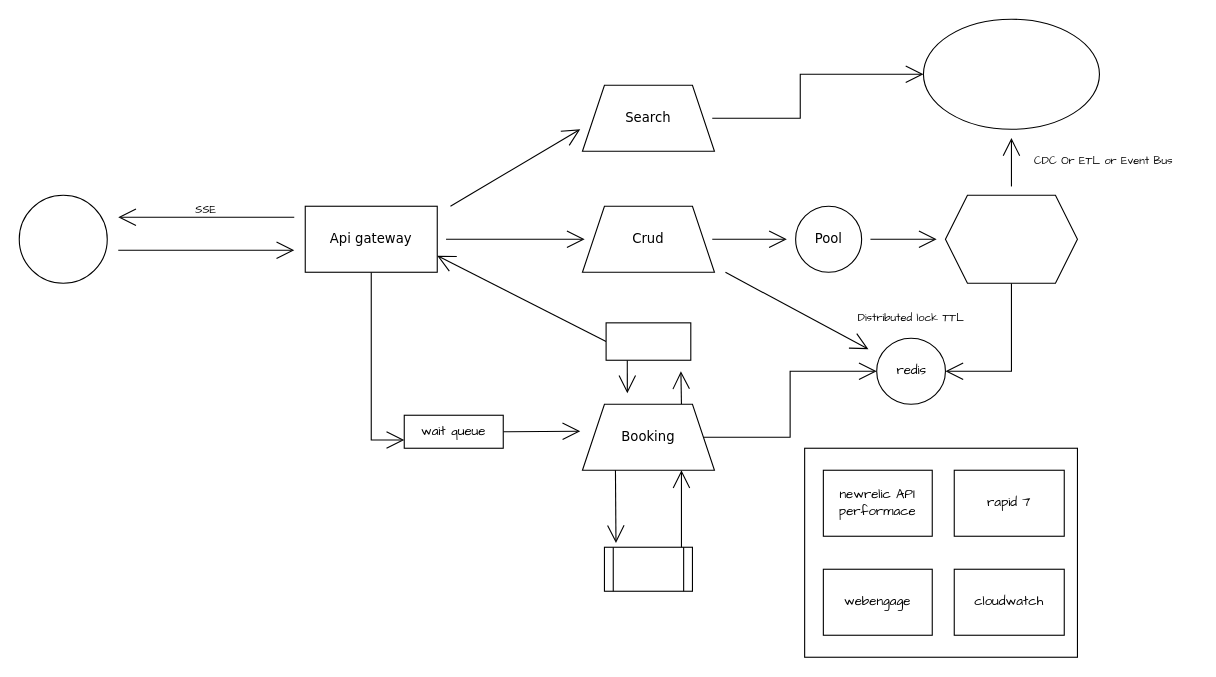
This 1216x677 diagram has some shape labels left out. The shapes that lost their labels are listed below. From the top down, each one's centre as x and y in pixels, then its label:
[1010,73]: Elastic search Caching Inverted index
[62,238]: CLient
[1010,238]: Aururo
[648,341]: Event bus
[647,568]: stripe
